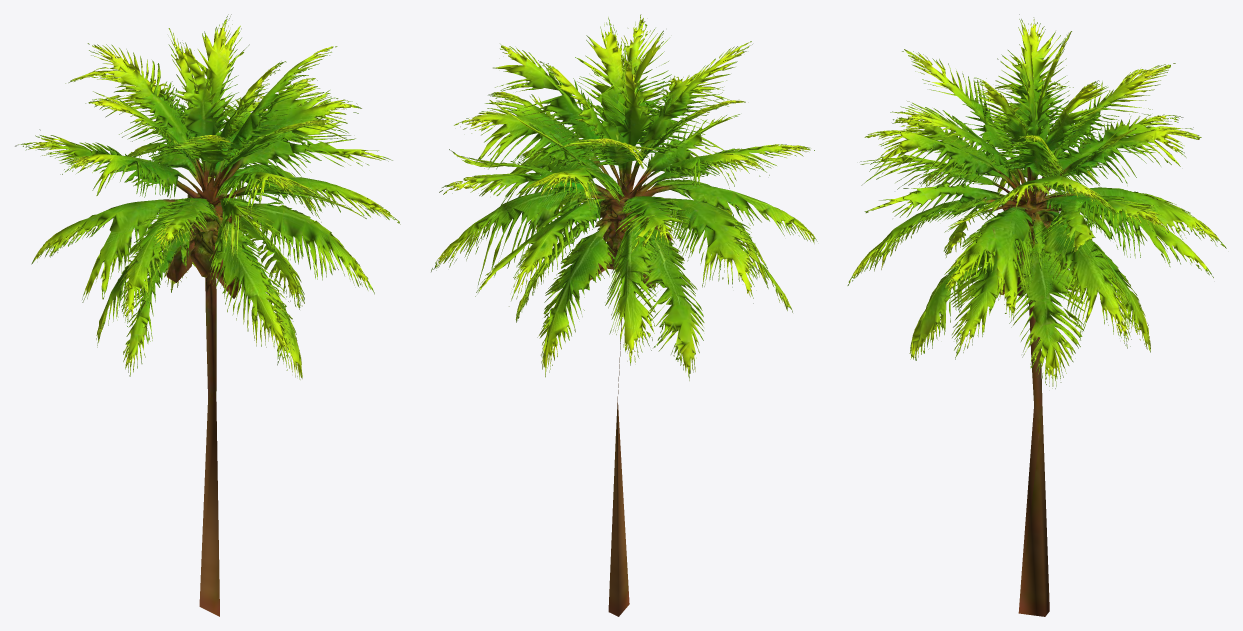
The model's file is palm_tree.glb.
3 views of the same model, side by side, from view 1: azimuth 30°, elevation 25°; view 2: azimuth 150°, elevation 25°; view 3: azimuth 270°, elevation 25° (orthographic).
Size of the model in its own units: 1.06 by 1.9 by 1.13.
Materials: 1 (1 with a texture image).
